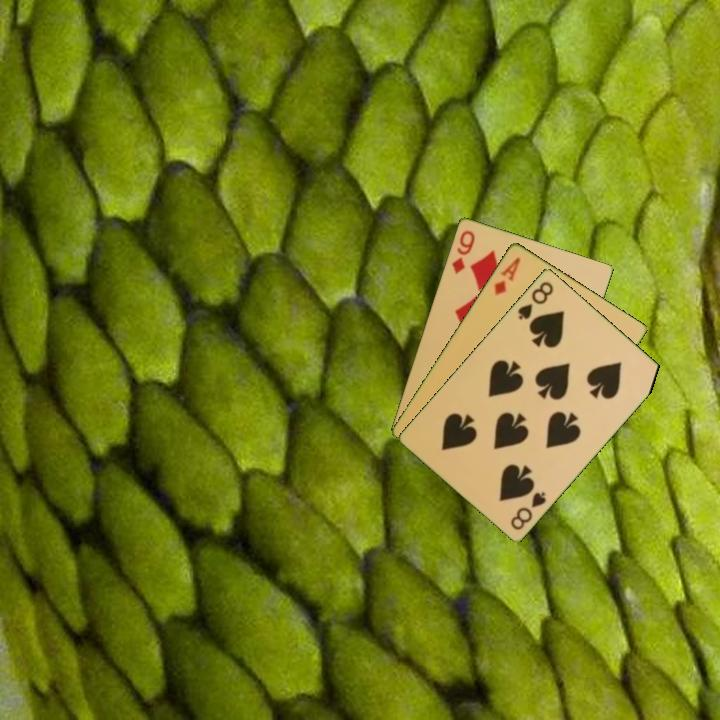8s: (507, 487, 549, 533), (514, 278, 556, 322)
9d: (448, 226, 478, 277)
Ad: (490, 253, 524, 298)
